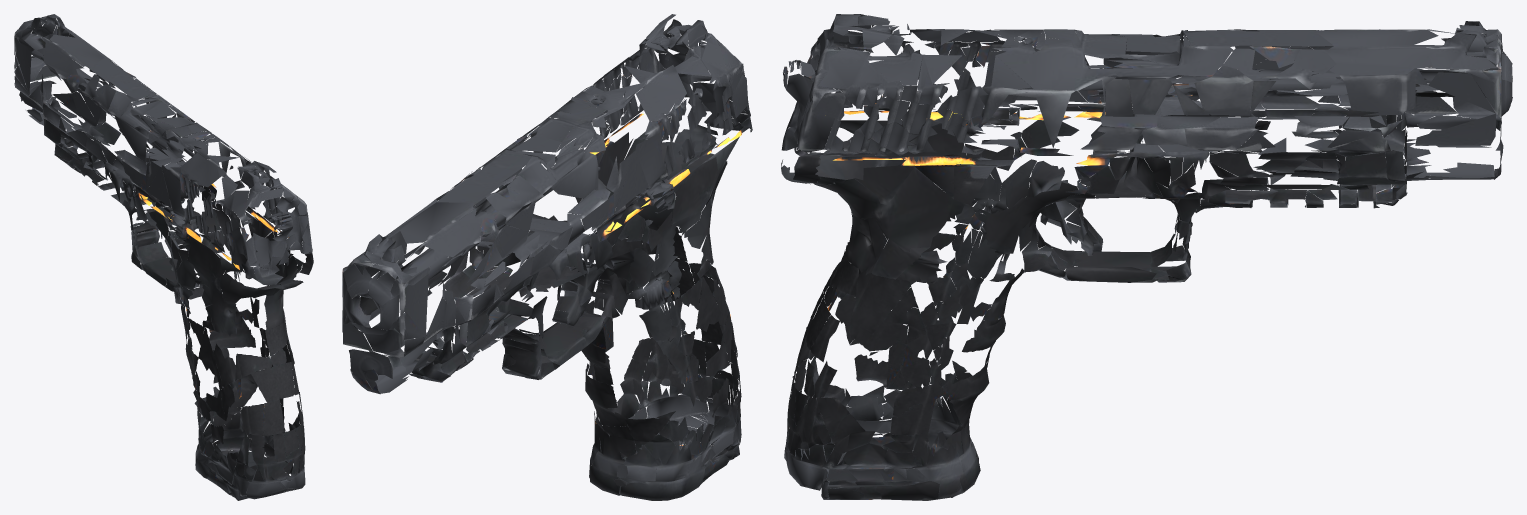
The model's file is pistol.glb.
The picture shows the model from 3 angles, left to right: view 1: azimuth 30°, elevation 25°; view 2: azimuth 150°, elevation 25°; view 3: azimuth 270°, elevation 25°; orthographic projection. The views are drawn at different scales.
Visible parts, largest first — view 1: PistolBody, PistolMag; view 2: PistolBody, PistolMag; view 3: PistolBody, PistolMag.
Boxes of the visible parts, box(x1,y1,x2,y2) form: PistolBody: box(14, 14, 313, 465); PistolMag: box(195, 412, 305, 500); PistolBody: box(342, 14, 752, 445); PistolMag: box(589, 364, 741, 500); PistolBody: box(781, 14, 1512, 455); PistolMag: box(784, 385, 980, 500).
Bounding box in the file's own units: 0.0454 × 0.1772 × 0.2579.
Materials: 1 (1 with a texture image).
